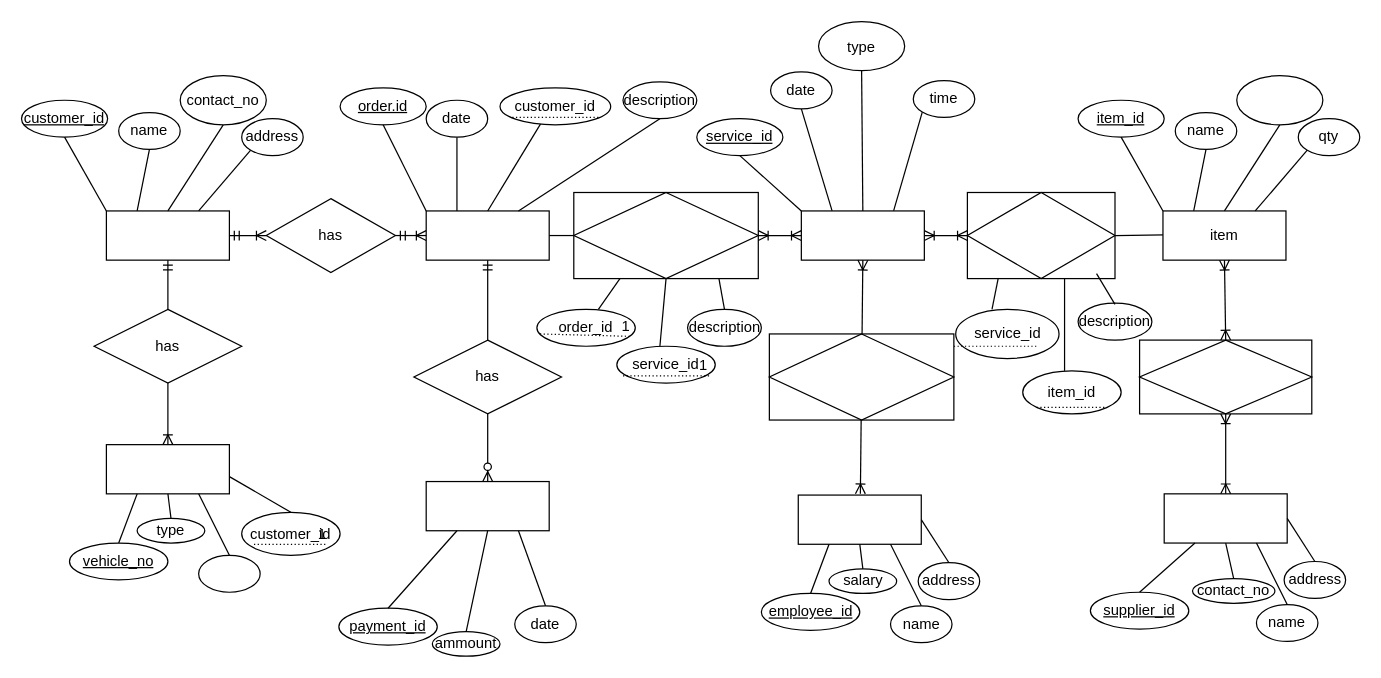
The diagram is 1381 pixels wide and 678 high, and some of its shapes have lost their labels. The centre of each missing label's shape, as x and y in pixels:
capacity: the point at 228,573
customer: the point at 167,235
employee: the point at 859,519
item_supplier_detail: the point at 1225,376
order: the point at 487,235
order_service_detail: the point at 665,235
payment: the point at 487,505
price per one: the point at 1279,99
service: the point at 862,235
service_employee_detail: the point at 861,376
service_item_detail: the point at 1040,235
supplier: the point at 1225,518
vehicle: the point at 167,468
